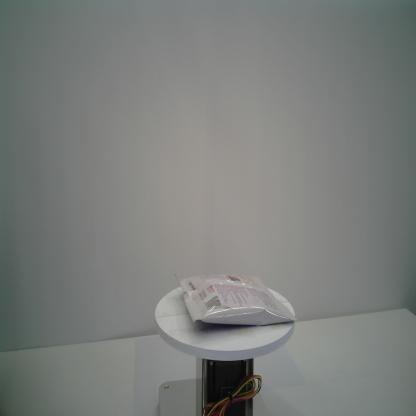Instant Drink: (174, 272, 299, 327)
